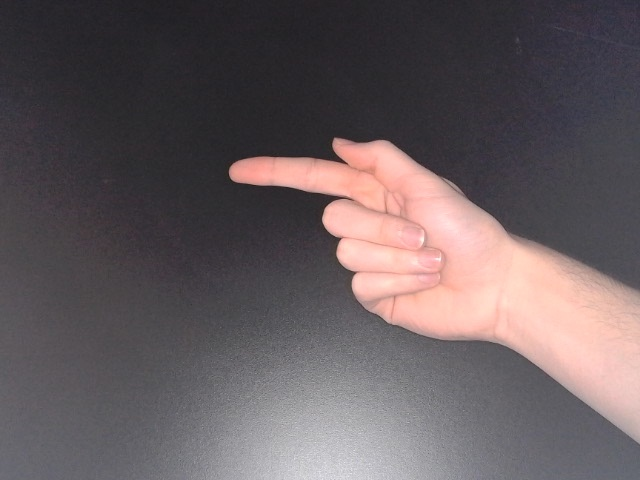g: (225, 132, 531, 357)
